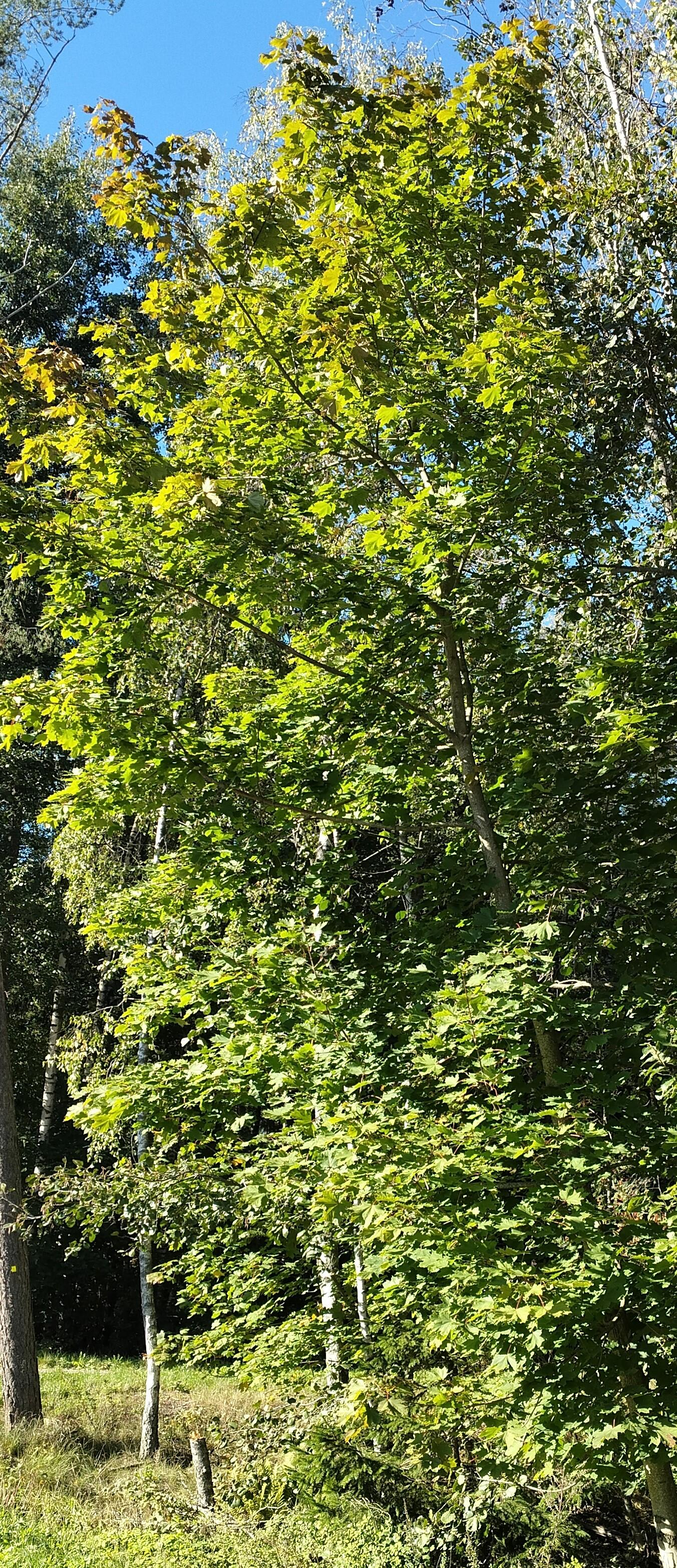Maple: (41, 46, 616, 1532)
